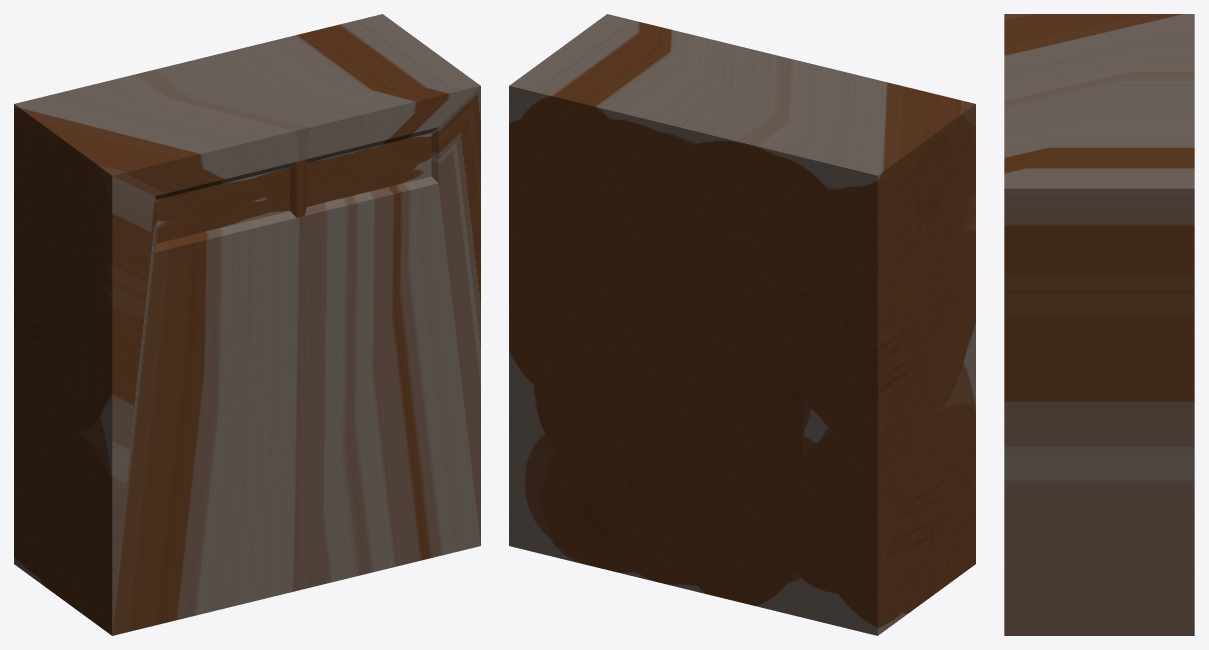
File: windowWall.fbx
3 views of the same model, side by side, from view 1: azimuth 30°, elevation 25°; view 2: azimuth 150°, elevation 25°; view 3: azimuth 270°, elevation 25° (orthographic). The views are drawn at different scales.
Visible parts, largest first — view 1: pPlane4; view 2: pPlane4; view 3: pPlane4.
Boxes of the visible parts, box(x1,y1,x2,y2) form: pPlane4: box(14, 14, 480, 635); pPlane4: box(509, 14, 975, 635); pPlane4: box(1004, 14, 1194, 635).
Bounding box in the file's own units: 3.2 × 3.81 × 1.47.
1 material, 1 textured.
